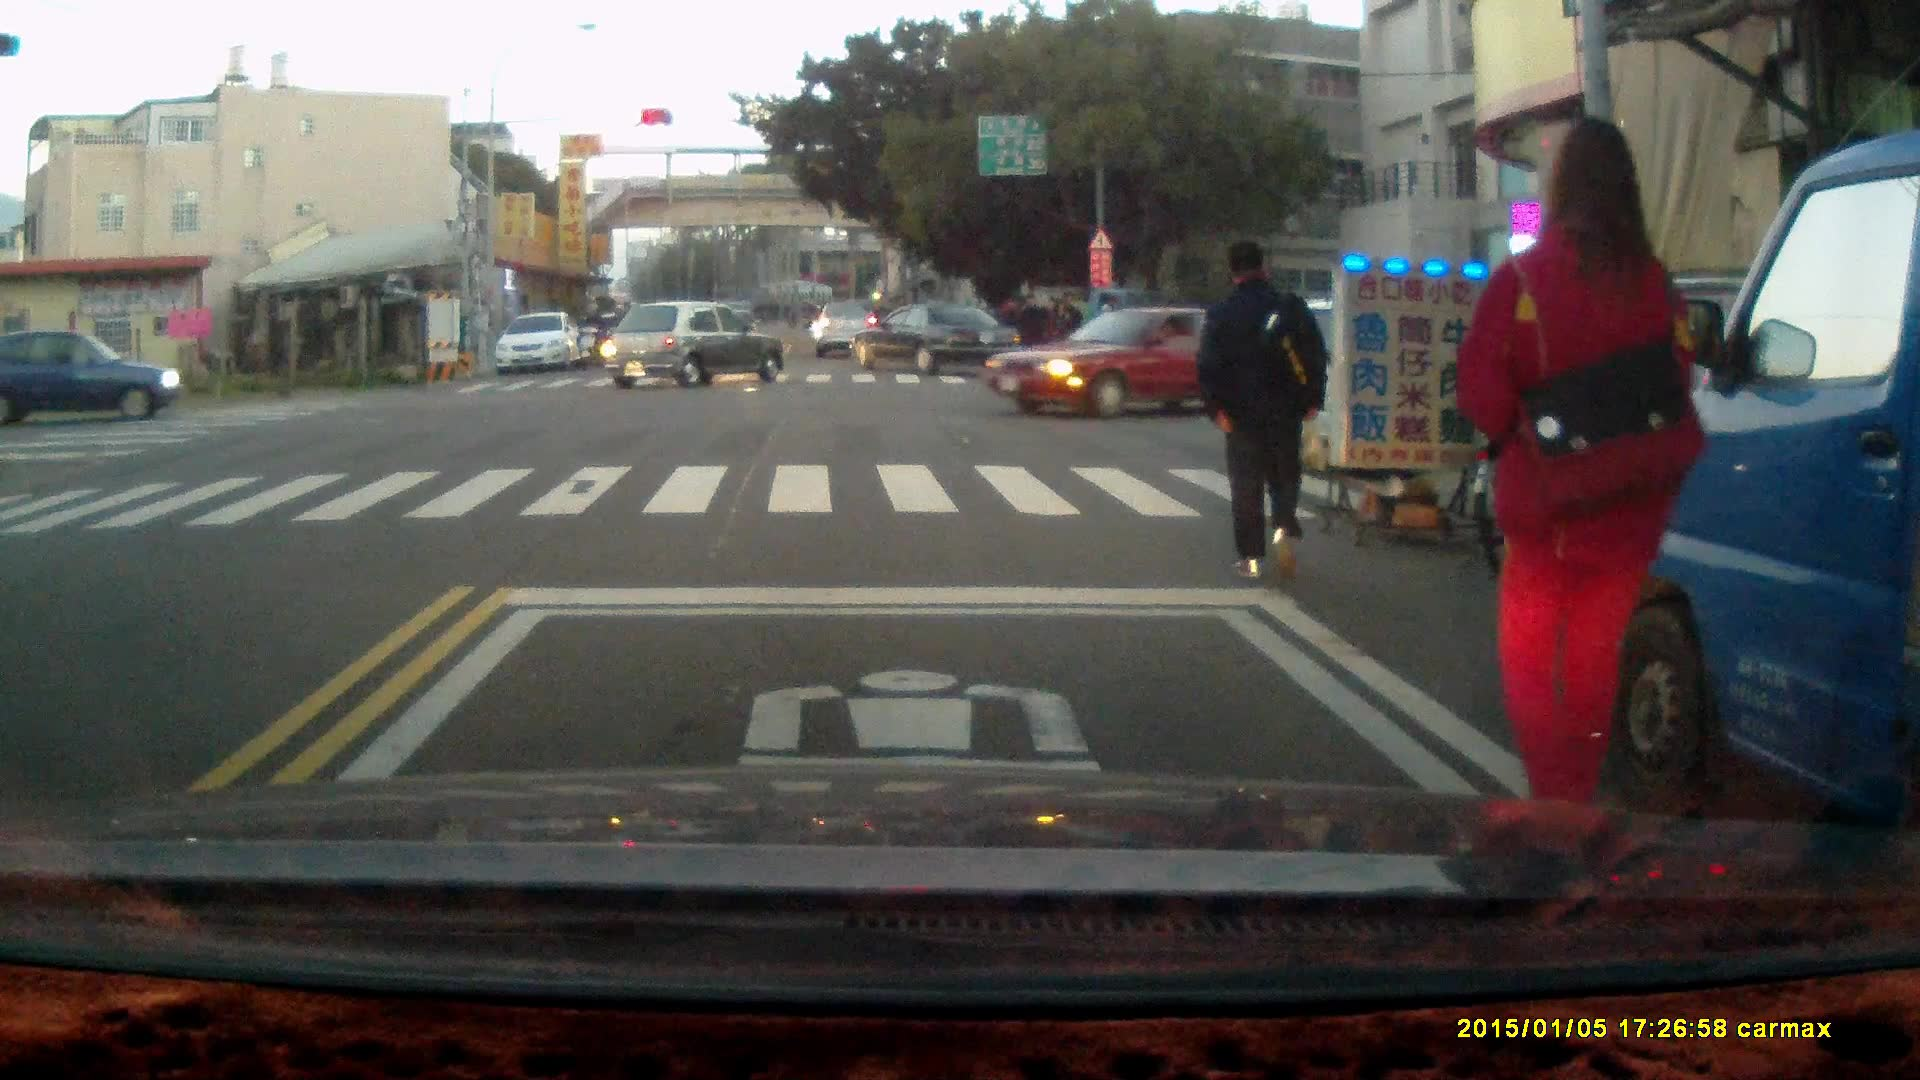pedestrian: (1456, 118, 1713, 833), (1190, 241, 1333, 587), (1013, 292, 1044, 371), (1054, 291, 1083, 369), (1047, 298, 1072, 364)
rider: (575, 302, 607, 369)
vehicle: (1598, 132, 1920, 856), (1233, 296, 1533, 459), (981, 302, 1223, 415), (1, 331, 188, 434), (602, 302, 787, 392), (1002, 284, 1183, 367), (858, 303, 1019, 376), (498, 313, 586, 377), (811, 302, 886, 370)
